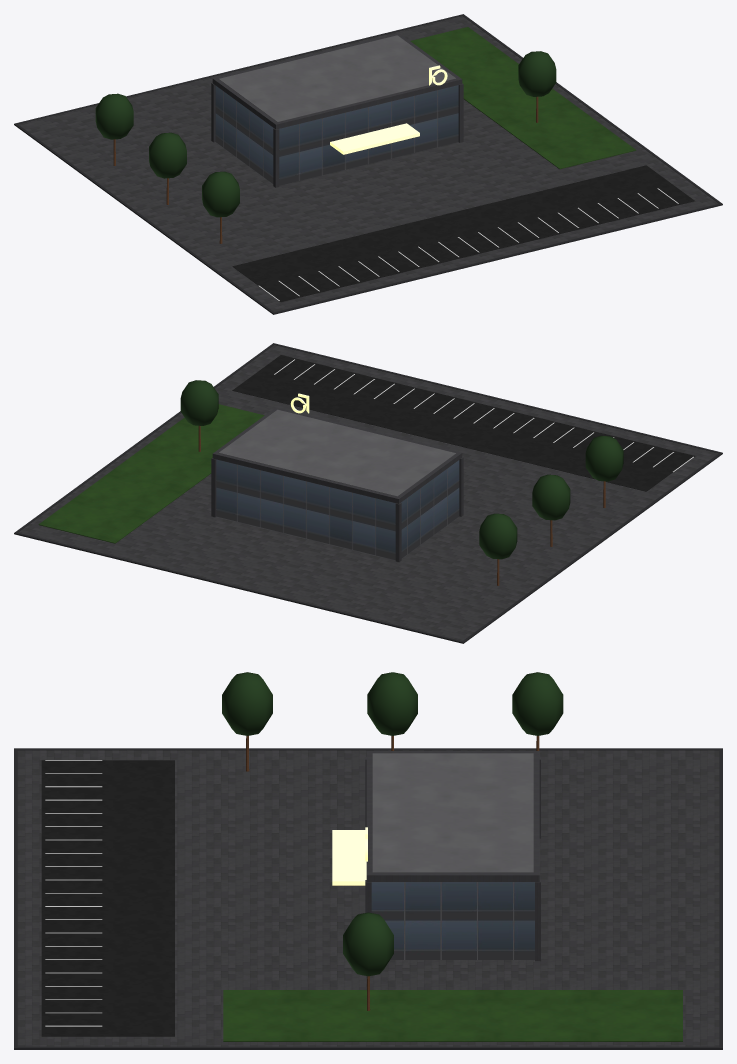
Rendered from sponsor_L1.glb.
3 renders of one model, top to bottom at view 1: azimuth 30°, elevation 25°; view 2: azimuth 150°, elevation 25°; view 3: azimuth 270°, elevation 25°, orthographic. The views are drawn at different scales.
Visible parts, largest first — view 1: paving_sponsor_L1, asphalt_sponsor_L1, emissive_curtain_sponsor_L1, lawn_sponsor_L1, roofing_sponsor_L1, foliage_sponsor_L1, concrete_dark_sponsor_L1, cladding_sponsor_L1, emissive_led_sponsor_L1, white_sponsor_L1; view 2: paving_sponsor_L1, asphalt_sponsor_L1, emissive_curtain_sponsor_L1, lawn_sponsor_L1, roofing_sponsor_L1, foliage_sponsor_L1, concrete_dark_sponsor_L1, cladding_sponsor_L1, white_sponsor_L1; view 3: paving_sponsor_L1, asphalt_sponsor_L1, lawn_sponsor_L1, roofing_sponsor_L1, emissive_curtain_sponsor_L1, foliage_sponsor_L1, concrete_dark_sponsor_L1, cladding_sponsor_L1, emissive_led_sponsor_L1, white_sponsor_L1.
Boxes of the visible parts, x1,y1,x2,y2 form: paving_sponsor_L1: (18, 16, 718, 311); asphalt_sponsor_L1: (232, 165, 694, 301); emissive_curtain_sponsor_L1: (215, 85, 458, 185); lawn_sponsor_L1: (410, 27, 636, 169); roofing_sponsor_L1: (219, 35, 455, 122); foliage_sponsor_L1: (95, 51, 556, 217); concrete_dark_sponsor_L1: (14, 14, 722, 314); cladding_sponsor_L1: (211, 33, 463, 187); emissive_led_sponsor_L1: (330, 65, 447, 154); white_sponsor_L1: (258, 188, 678, 300); paving_sponsor_L1: (18, 345, 718, 640); asphalt_sponsor_L1: (232, 355, 694, 491); emissive_curtain_sponsor_L1: (216, 459, 459, 560); lawn_sponsor_L1: (38, 404, 264, 543); roofing_sponsor_L1: (219, 409, 455, 496); foliage_sponsor_L1: (180, 380, 623, 559); concrete_dark_sponsor_L1: (14, 343, 722, 643); cladding_sponsor_L1: (211, 407, 463, 562); white_sponsor_L1: (274, 359, 693, 472); paving_sponsor_L1: (17, 750, 719, 1046); asphalt_sponsor_L1: (41, 760, 174, 1036); lawn_sponsor_L1: (223, 990, 682, 1041); roofing_sponsor_L1: (372, 753, 533, 872); emissive_curtain_sponsor_L1: (371, 882, 534, 959); foliage_sponsor_L1: (222, 672, 563, 976); concrete_dark_sponsor_L1: (14, 748, 722, 1049); cladding_sponsor_L1: (365, 751, 540, 961); emissive_led_sponsor_L1: (332, 827, 367, 885); white_sponsor_L1: (45, 760, 102, 1026).
Bounding box in the file's own units: 58.6 × 10.3 × 58.6.
11 materials, 7 textured.
